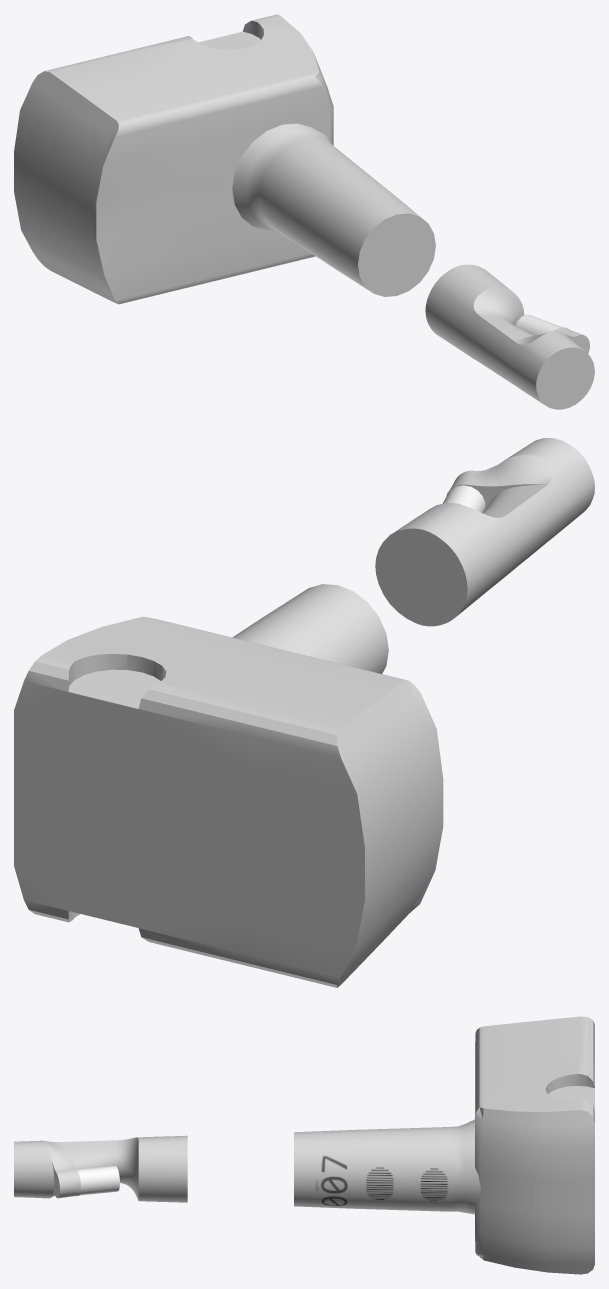
3 views of the same model, one above another, from view 1: azimuth 30°, elevation 25°; view 2: azimuth 150°, elevation 25°; view 3: azimuth 270°, elevation 25° (orthographic). The views are drawn at different scales.
Parts seen in each view (by area): view 1: base, torso, neck, lidar; view 2: base, neck, torso, lidar; view 3: base, torso, neck, lidar.
Part boxes in pixels (left/top/right/bottom): base: left=14, top=14, right=333, bottom=304; torso: left=232, top=123, right=435, bottom=296; neck: left=425, top=264, right=594, bottom=409; lidar: left=515, top=314, right=562, bottom=335; base: left=14, top=616, right=443, bottom=987; neck: left=375, top=438, right=594, bottom=626; torso: left=232, top=584, right=388, bottom=673; lidar: left=443, top=485, right=485, bottom=512; base: left=475, top=1016, right=594, bottom=1274; torso: left=294, top=1119, right=480, bottom=1214; neck: left=14, top=1135, right=187, bottom=1202; lidar: left=77, top=1165, right=119, bottom=1195.
Bounding box in the file's own units: 0.54 × 0.3776 × 1.21.
Materials: 1 (1 with a texture image).
